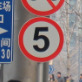speed_limit_5: (18, 17, 64, 62)
